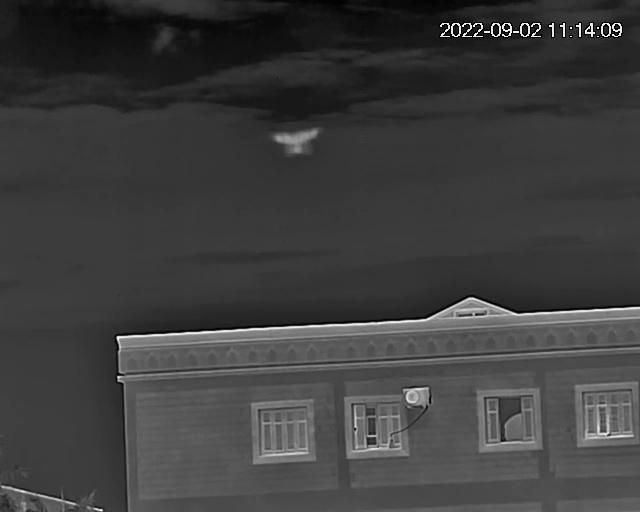DJI-Phantom: (272, 128, 322, 157)
